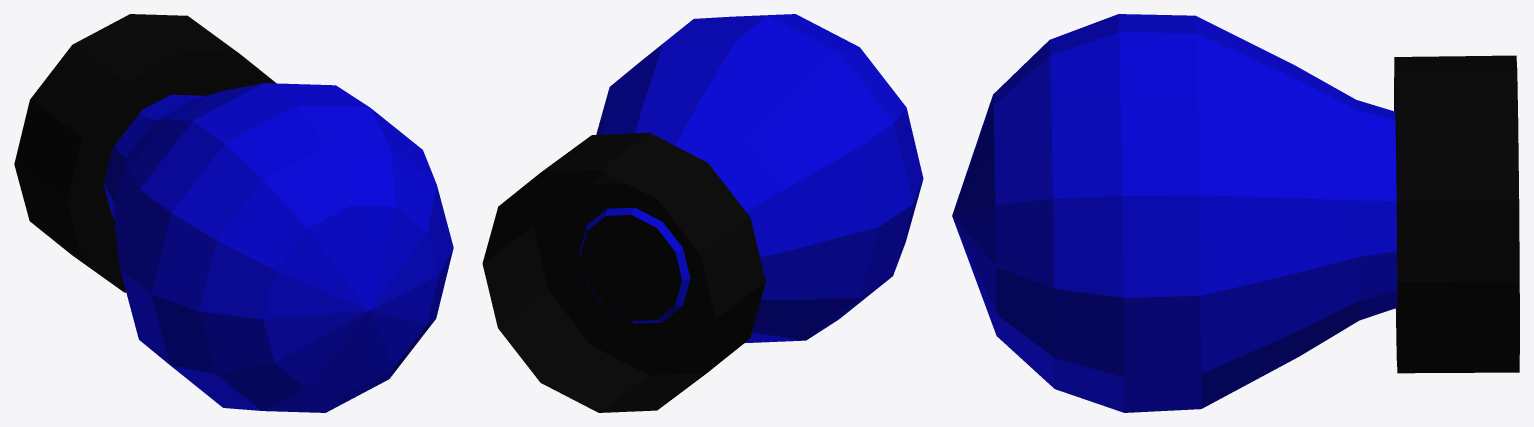
Rendered from Ampoule.fbx.
3 views of the same model, side by side, from view 1: azimuth 30°, elevation 25°; view 2: azimuth 150°, elevation 25°; view 3: azimuth 270°, elevation 25° (orthographic). The views are drawn at different scales.
Visible parts, largest first — view 1: Mesh_Ampoule; view 2: Mesh_Ampoule; view 3: Mesh_Ampoule.
Part boxes in pixels (x1,y1,x2,y2): Mesh_Ampoule: [14, 14, 453, 412]; Mesh_Ampoule: [482, 14, 923, 412]; Mesh_Ampoule: [952, 14, 1519, 412].
Size of the model in its own units: 9.92 by 9.92 by 14.07.
